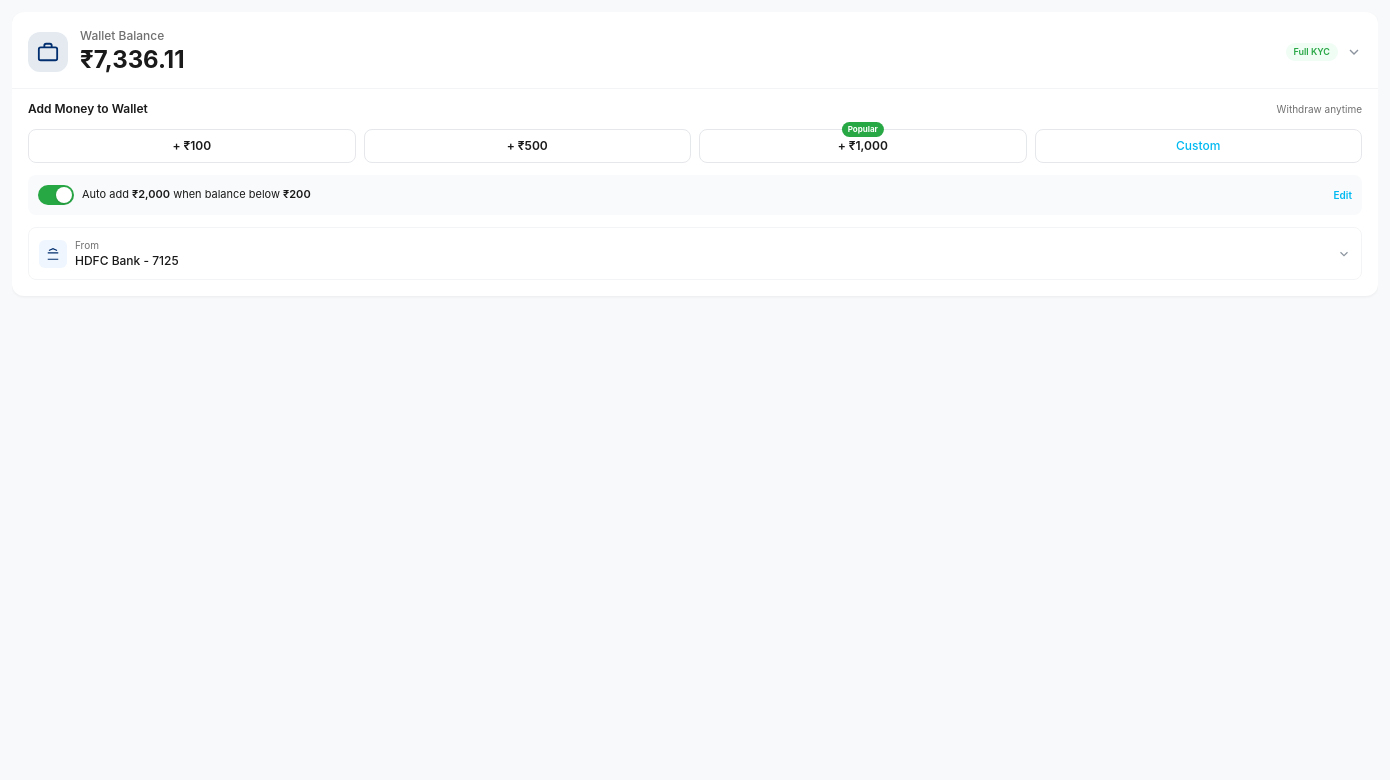
WalletStrip › shows sub-wallet list when expanded
Note: Click the balance button to expand
Click the button "Wallet Balance ₹7,336.11 Full KYC" at (48, 52), box [12, 12, 1378, 88]
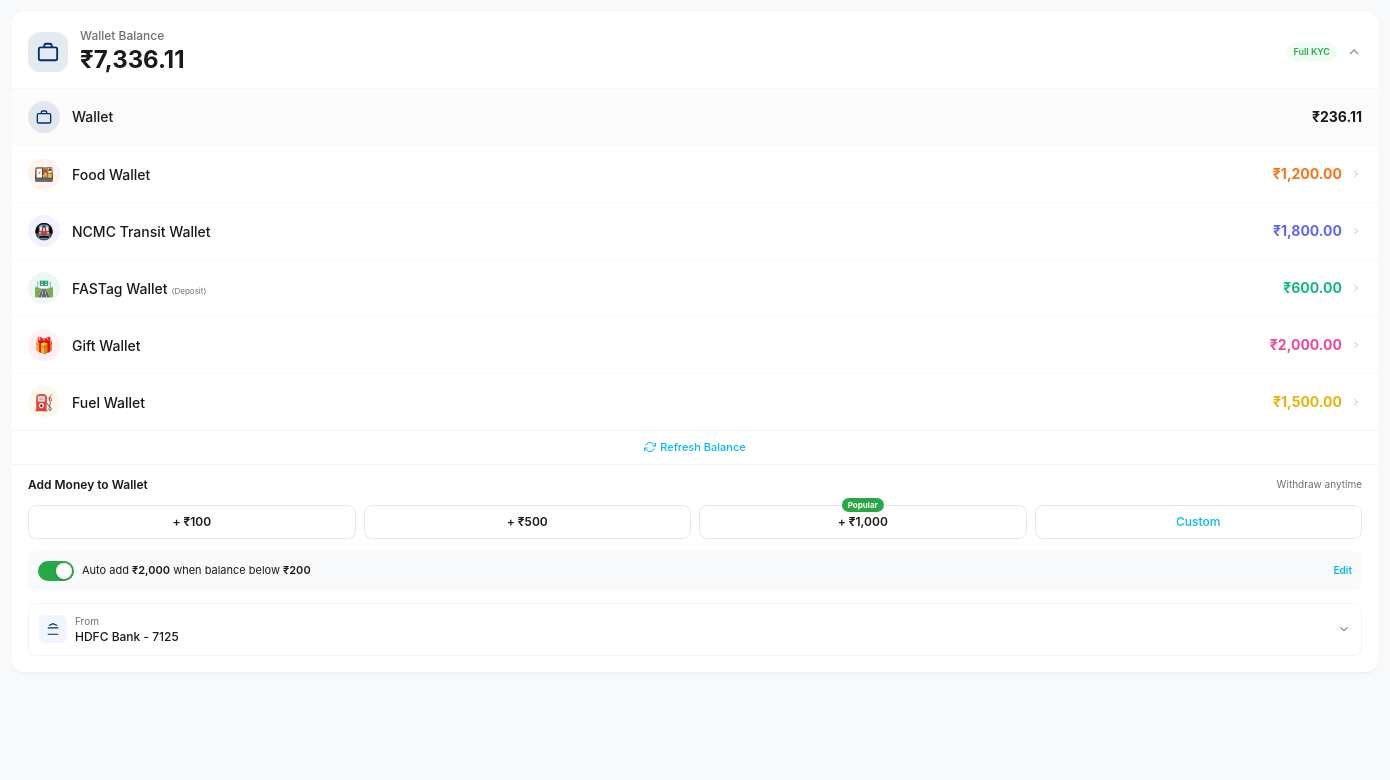
Now the text "Food Wallet" is shown, box [72, 166, 150, 183]
Now the text "NCMC Transit Wallet" is shown, box [72, 223, 211, 240]
Now the text "FASTag Wallet" is shown, box [72, 280, 168, 297]
